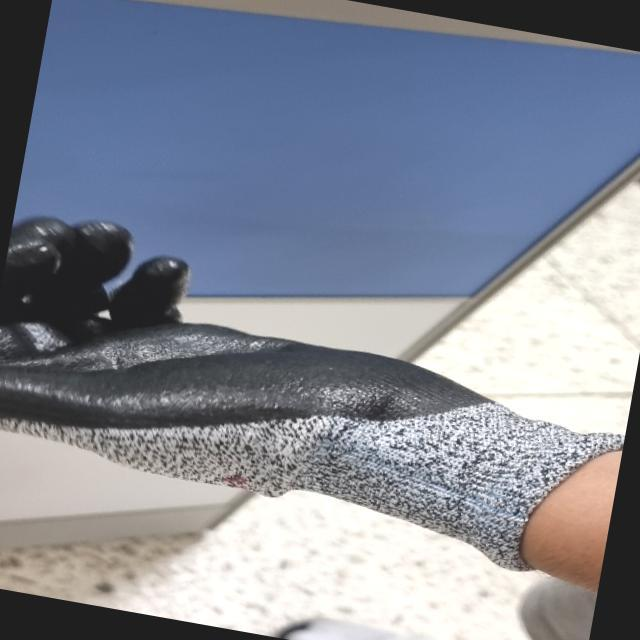Gloves: (1, 208, 629, 598)
